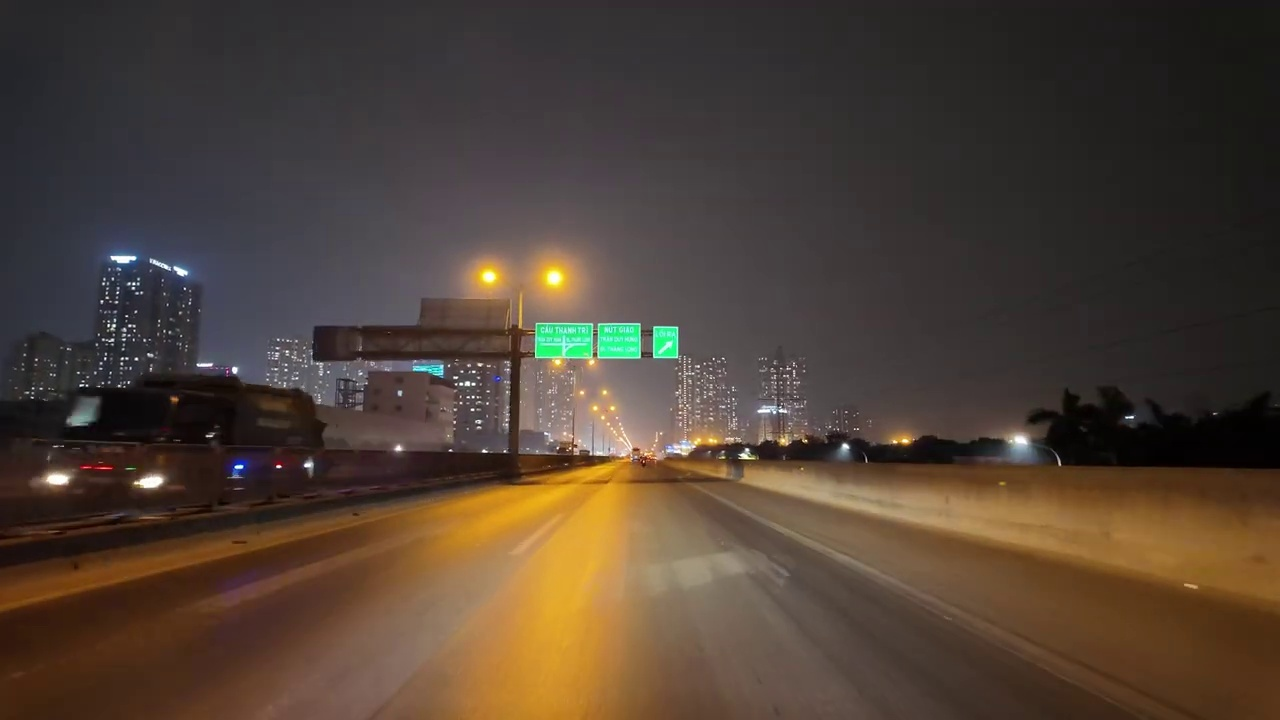acesa: (536, 261, 572, 297), (473, 261, 506, 292)
